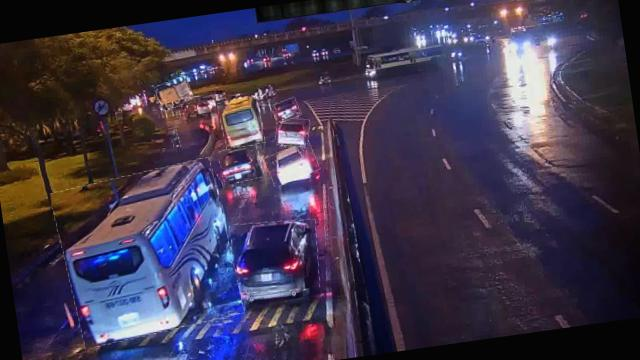Bike: (170, 130, 180, 148)
Bus: (51, 159, 242, 347), (218, 96, 264, 149)
Car: (226, 214, 322, 298), (264, 142, 320, 186), (217, 144, 263, 184), (272, 114, 312, 149), (182, 94, 220, 118), (271, 97, 301, 123)
Truck: (155, 77, 194, 110)
